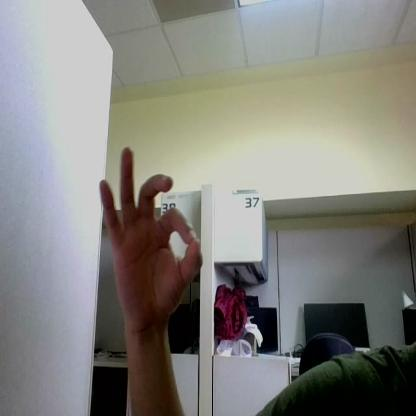F: (101, 148, 202, 328)
